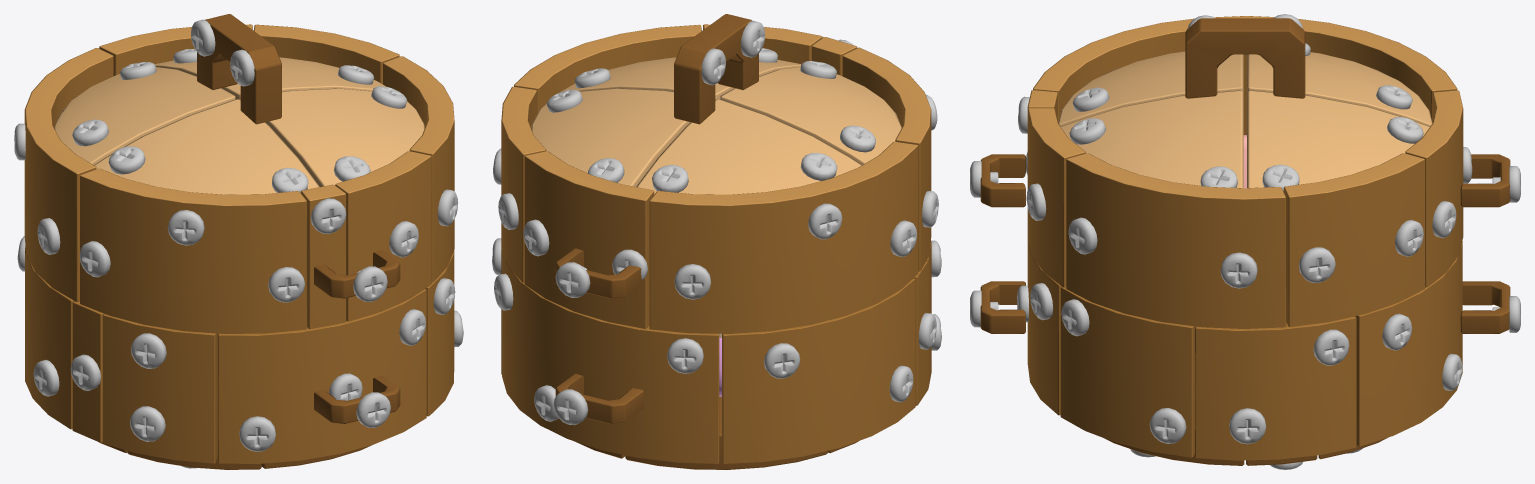
File: Level_Streamer_31.fbx
3 renders of one model, left to right at view 1: azimuth 30°, elevation 25°; view 2: azimuth 150°, elevation 25°; view 3: azimuth 270°, elevation 25°, orthographic.
Visible parts, largest first — view 1: LV1_Steamer_2, LV3_Steamer_9, LV3_Steamer_3, LV1_Steamer_1, LV1_Steamer_3, LV1_Steamer_12, LV1_Steamer_14, LV1_Steamer_4, LV1_Steamer_16, LV3_Steamer_2, LV1_Steamer_8, LV1_Steamer_5 (+35 smaller); view 2: LV1_Steamer_1, LV3_Steamer_11, LV3_Steamer_2, LV1_Steamer_11, LV1_Steamer_4, LV1_Steamer_13, LV1_Steamer_3, LV1_Steamer_16, LV1_Steamer_2, LV1_Steamer_8, LV1_Steamer_15, LV1_Steamer_14 (+30 smaller); view 3: LV1_Steamer_16, LV3_Steamer_17, LV1_Steamer_15, LV3_Steamer_16, LV3_Steamer_11, LV1_Steamer_14, LV1_Steamer_13, LV1_Steamer_8, LV1_Steamer_11, LV1_Steamer_12, LV1_Steamer_1, LV1_Steamer_2 (+27 smaller).
Boxes of the visible parts, x1,y1,x2,y2 form: LV1_Steamer_2: (80, 168, 306, 333); LV3_Steamer_9: (217, 289, 426, 463); LV3_Steamer_3: (102, 314, 217, 463); LV1_Steamer_1: (24, 48, 113, 301); LV1_Steamer_3: (94, 99, 319, 194); LV1_Steamer_12: (335, 151, 431, 321); LV1_Steamer_14: (266, 88, 424, 186); LV1_Steamer_4: (54, 67, 235, 164); LV1_Steamer_16: (383, 56, 454, 282); LV3_Steamer_2: (25, 247, 74, 429); LV1_Steamer_8: (197, 14, 281, 124); LV1_Steamer_5: (301, 184, 346, 329); LV1_Steamer_1: (649, 141, 918, 333); LV3_Steamer_11: (502, 251, 719, 463); LV3_Steamer_2: (722, 278, 915, 463); LV1_Steamer_11: (524, 151, 654, 328); LV1_Steamer_4: (636, 99, 861, 194); LV1_Steamer_13: (531, 88, 689, 186); LV1_Steamer_3: (720, 67, 901, 164); LV1_Steamer_16: (514, 24, 701, 113); LV1_Steamer_2: (842, 47, 931, 271); LV1_Steamer_8: (674, 14, 758, 124); LV1_Steamer_15: (501, 86, 546, 282); LV1_Steamer_14: (560, 57, 801, 99); LV1_Steamer_16: (1066, 153, 1286, 328); LV3_Steamer_17: (1195, 316, 1356, 460); LV1_Steamer_15: (1283, 153, 1424, 326); LV3_Steamer_16: (1060, 287, 1195, 457); LV3_Steamer_11: (1355, 241, 1462, 446); LV1_Steamer_14: (1061, 90, 1243, 188); LV1_Steamer_13: (1247, 90, 1429, 187); LV1_Steamer_8: (1185, 18, 1305, 98); LV1_Steamer_11: (1405, 90, 1463, 287); LV1_Steamer_12: (1027, 108, 1085, 287); LV1_Steamer_1: (1214, 16, 1457, 134); LV1_Steamer_2: (1033, 18, 1194, 122).
Bounding box in the file's own units: 4.07 × 3.66 × 4.9.
